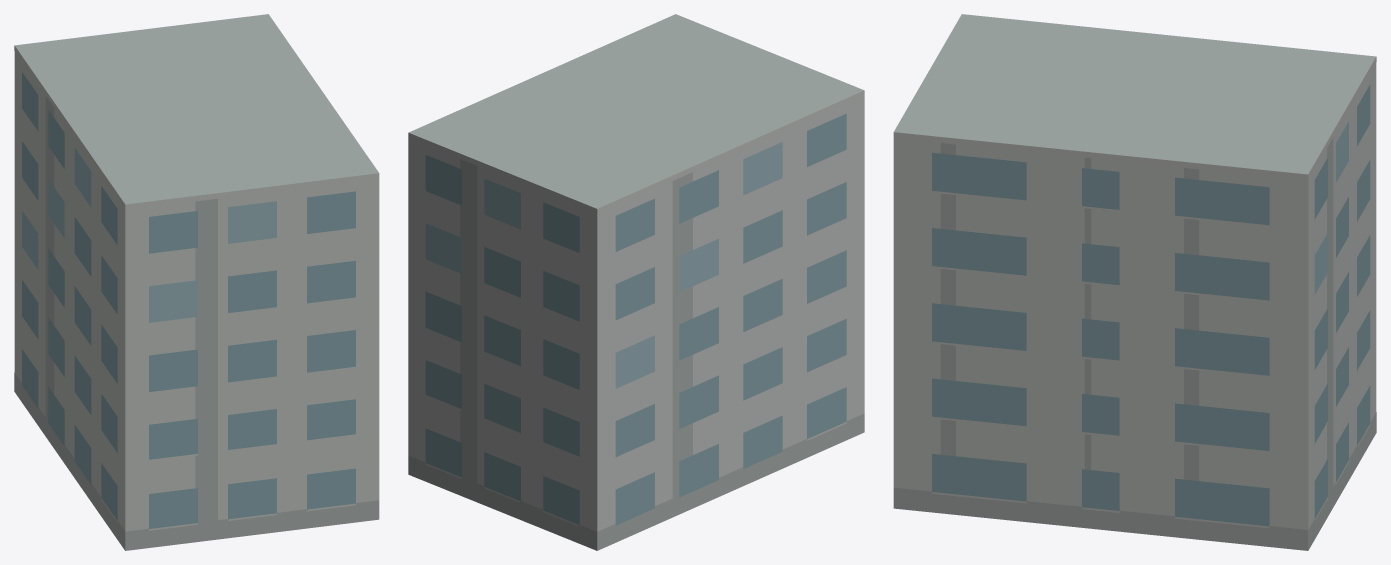
The model's file is survey-upis-33030905.glb.
The picture shows the model from 3 angles, left to right: view 1: azimuth 30°, elevation 25°; view 2: azimuth 150°, elevation 25°; view 3: azimuth 270°, elevation 25°; orthographic projection. The views are drawn at different scales.
Visible parts, largest first — view 1: survey-upis-33030905.tmp; view 2: survey-upis-33030905.tmp; view 3: survey-upis-33030905.tmp.
Boxes of the visible parts, box(x1,y1,x2,y2) form: survey-upis-33030905.tmp: box(14, 14, 379, 550); survey-upis-33030905.tmp: box(408, 14, 864, 550); survey-upis-33030905.tmp: box(893, 14, 1376, 550).
Bounding box in the file's own units: 13.95 × 15.25 × 17.74.
